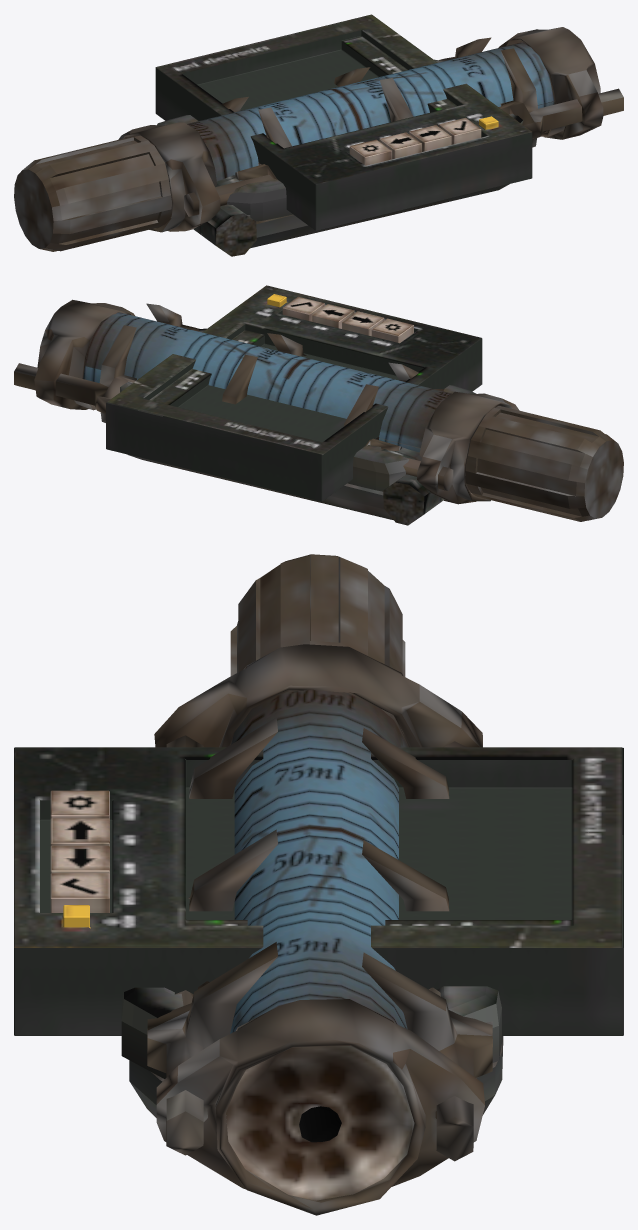
The model's file is items.obj.
The picture shows the model from 3 angles, top to bottom: view 1: azimuth 30°, elevation 25°; view 2: azimuth 150°, elevation 25°; view 3: azimuth 270°, elevation 25°; orthographic projection. The views are drawn at different scales.
Parts seen in each view (by area): view 1: jammer_parent, adrenaline_main_parent, adrenaline_cap, burner_phone_lid, burner_phone_main_parent, jammer_button_misc, jammer_button_confirm, jammer_button_left, jammer_button_right; view 2: jammer_parent, adrenaline_main_parent, adrenaline_cap, burner_phone_lid, burner_phone_main_parent, jammer_button_misc, jammer_button_confirm, jammer_button_left, jammer_button_right; view 3: adrenaline_main_parent, jammer_parent, adrenaline_cap, burner_phone_lid, jammer_button_confirm, burner_phone_main_parent, jammer_button_misc, jammer_button_right, jammer_button_left.
Boxes of the visible parts, x1,y1,x2,y2 form: jammer_parent: (155,14,532,230); adrenaline_main_parent: (118,27,623,232); adrenaline_cap: (14,135,171,251); burner_phone_lid: (157,59,532,256); burner_phone_main_parent: (247,184,509,248); jammer_button_misc: (349,139,391,165); jammer_button_confirm: (439,118,481,144); jammer_button_left: (379,132,421,159); jammer_button_right: (409,125,451,151); jammer_parent: (106,285,482,501); adrenaline_main_parent: (14,299,519,504); adrenaline_cap: (465,406,623,521); burner_phone_lid: (120,328,476,525); burner_phone_main_parent: (127,454,393,519); jammer_button_misc: (371,318,413,343); jammer_button_confirm: (282,296,324,321); jammer_button_left: (342,311,384,336); jammer_button_right: (312,304,354,328); adrenaline_main_parent: (147,644,492,1215); jammer_parent: (14,747,623,1035); adrenaline_cap: (230,554,405,676); burner_phone_lid: (121,986,502,1078); jammer_button_confirm: (50,873,109,912); burner_phone_main_parent: (129,1036,503,1117); jammer_button_misc: (50,790,109,818); jammer_button_right: (50,845,109,873); jammer_button_left: (50,818,109,846).
Bounding box in the file's own units: 3.7 × 0.728 × 1.87.
